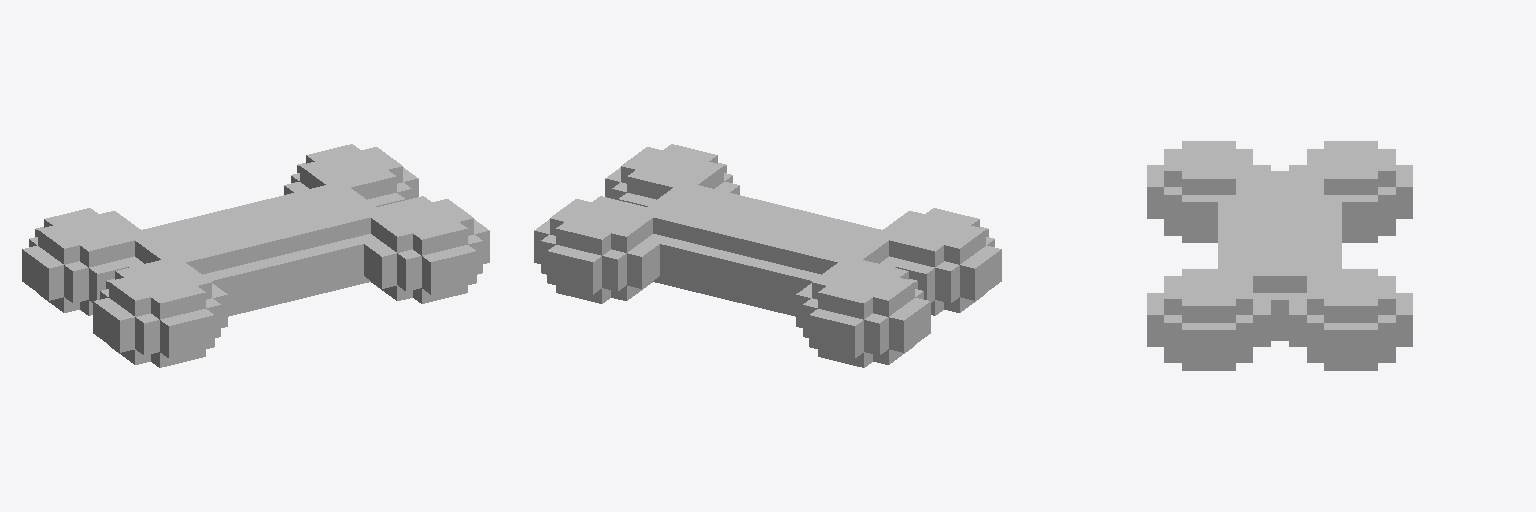
File: bone.obj
The picture shows the model from 3 angles: view 1: azimuth 30°, elevation 25°; view 2: azimuth 150°, elevation 25°; view 3: azimuth 270°, elevation 25°; orthographic projection.
Visible parts, largest first — view 1: bone; view 2: bone; view 3: bone.
Part boxes in pixels (left/top/right/bottom): bone: left=22, top=144, right=489, bottom=367; bone: left=534, top=144, right=1001, bottom=367; bone: left=1147, top=141, right=1412, bottom=370.
Size of the model in its own units: 24 by 4 by 15.